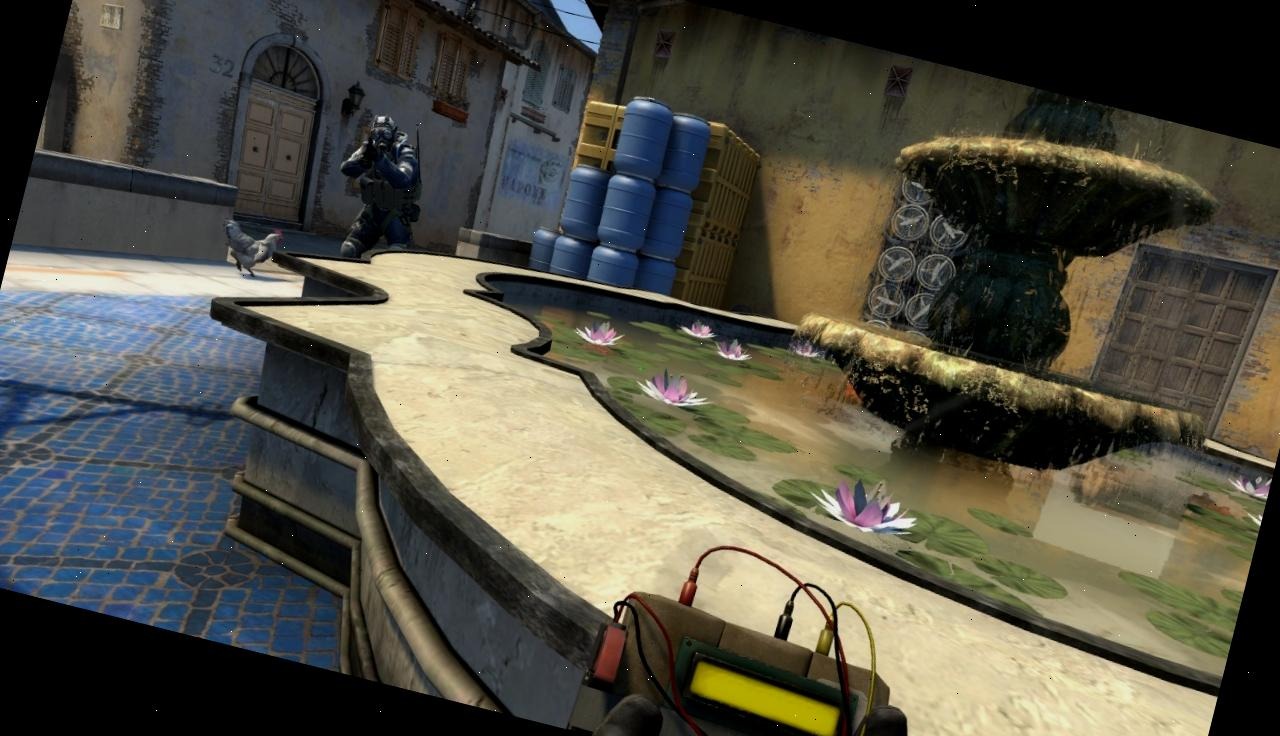ct: (334, 110, 439, 251)
cthead: (367, 113, 400, 154)
